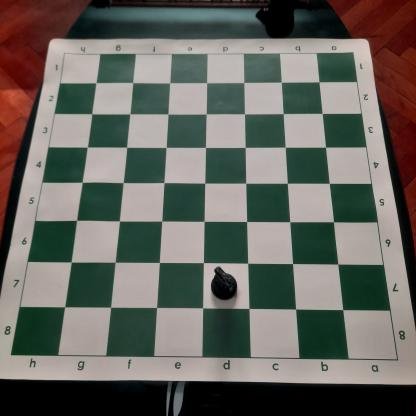black-knight: (210, 265, 238, 301)
